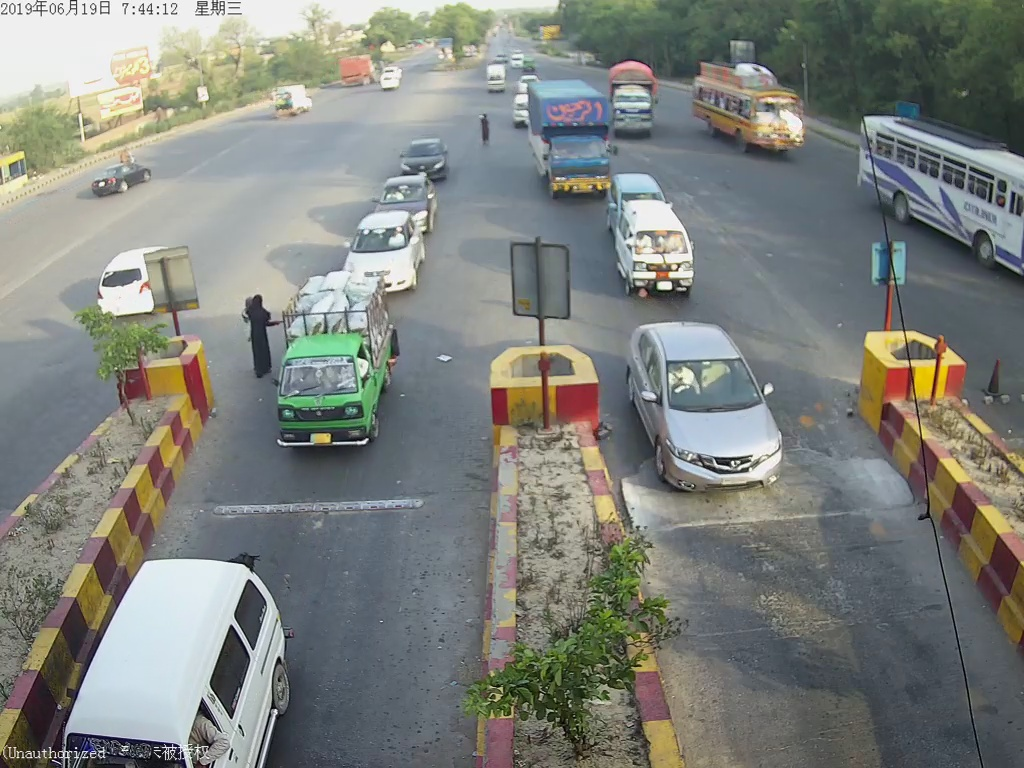Cat-1: (623, 332, 804, 505), (272, 286, 400, 441), (621, 210, 700, 300), (351, 215, 426, 290)
Cat-2: (531, 88, 614, 198)
